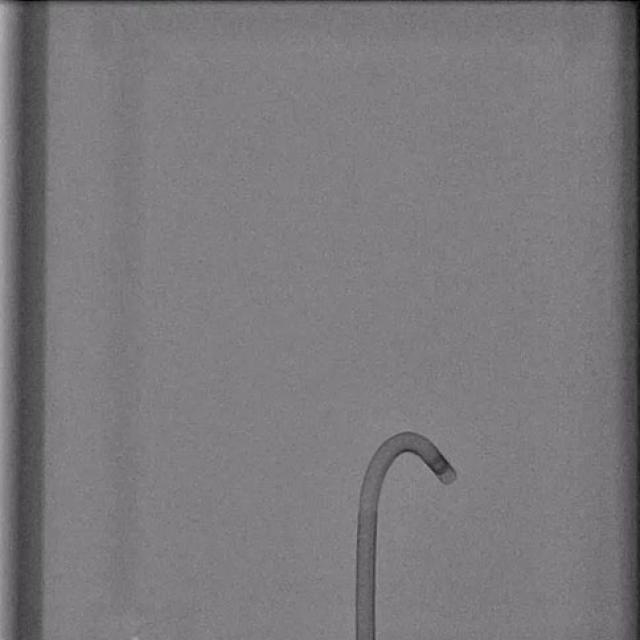bend: (357, 498, 380, 515)
entry: (357, 634, 374, 640)
marker: (429, 454, 453, 478)
tip: (446, 476, 458, 488)
